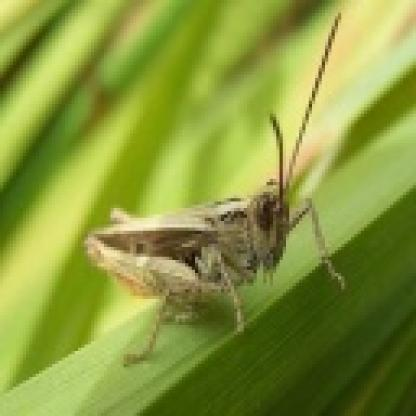grasshopper: (80, 86, 356, 348)
